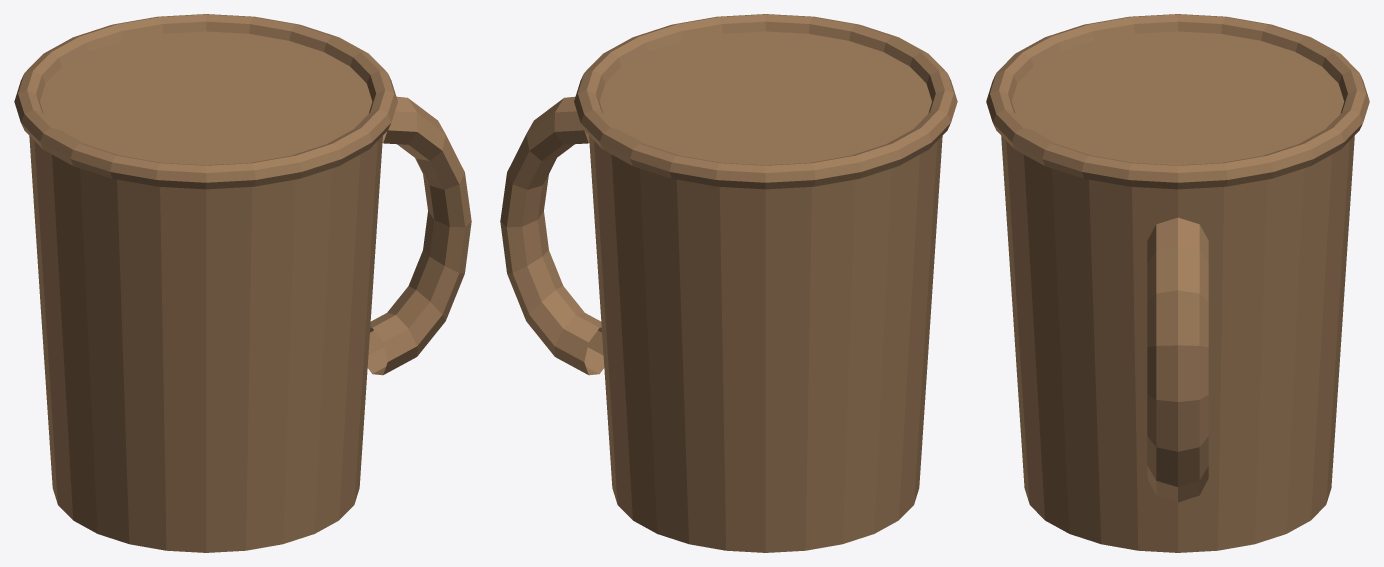
File: ceramic_mug.glb
3 views of the same model, side by side, from view 1: azimuth 30°, elevation 25°; view 2: azimuth 150°, elevation 25°; view 3: azimuth 270°, elevation 25° (orthographic).
Visible parts, largest first — view 1: ceramic_mug; view 2: ceramic_mug; view 3: ceramic_mug.
Boxes of the visible parts, x1,y1,x2,y2 form: ceramic_mug: [14, 14, 471, 552]; ceramic_mug: [500, 14, 957, 552]; ceramic_mug: [986, 14, 1369, 552].
Bounding box in the file's own units: 0.1152 × 0.103 × 0.09.
